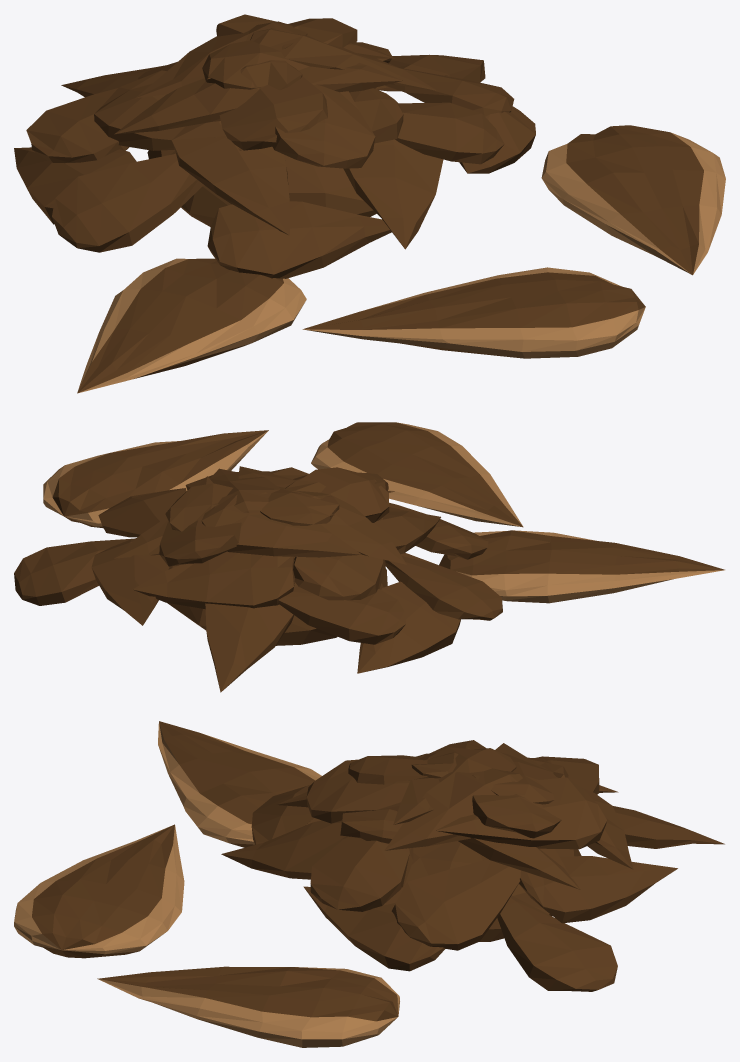
The model's file is flaxseed.glb.
The picture shows the model from 3 angles, top to bottom: view 1: azimuth 30°, elevation 25°; view 2: azimuth 150°, elevation 25°; view 3: azimuth 270°, elevation 25°; orthographic projection. The views are drawn at different scales.
Size of the model in its own units: 2.03 by 0.4123 by 1.9.
